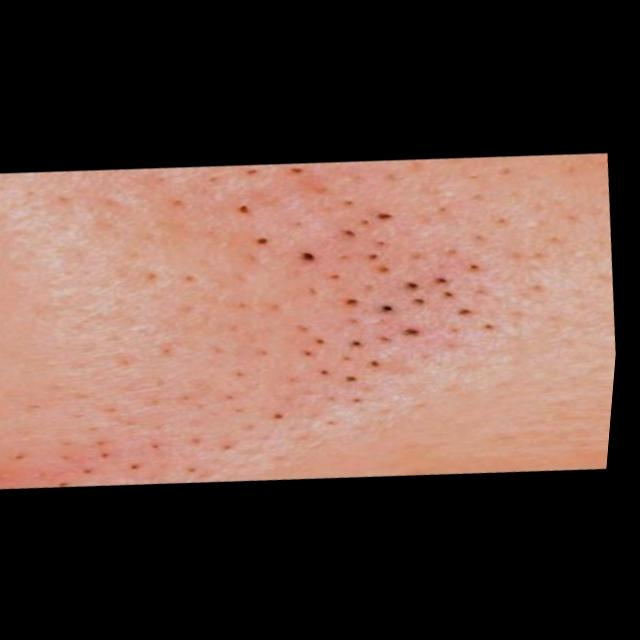blackhead: (184, 183, 532, 422)
